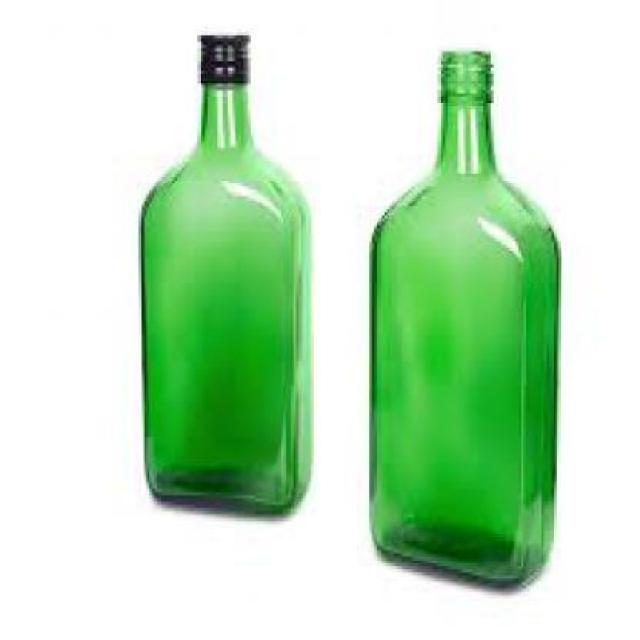GLASS: (372, 48, 562, 586), (144, 80, 308, 512)
METAL: (202, 32, 253, 78)
